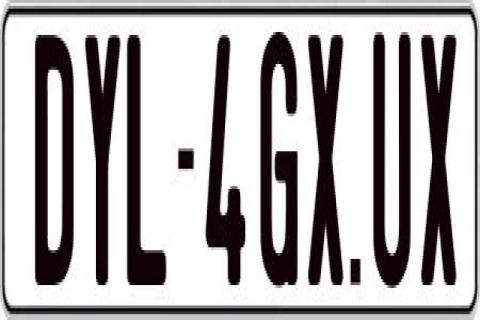0: (202, 26, 246, 288)
D: (35, 35, 76, 297)
G: (260, 32, 300, 294)
L: (126, 35, 170, 291)
U: (373, 26, 411, 282)
X: (419, 32, 456, 285), (306, 29, 341, 279)
Y: (82, 32, 124, 300)
